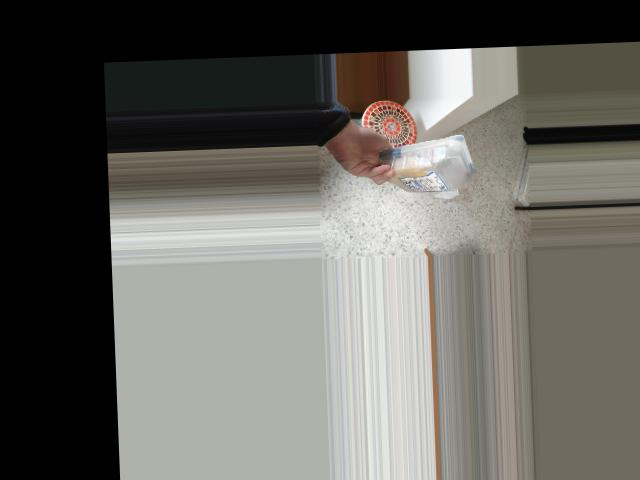cheese: (381, 138, 477, 194)
